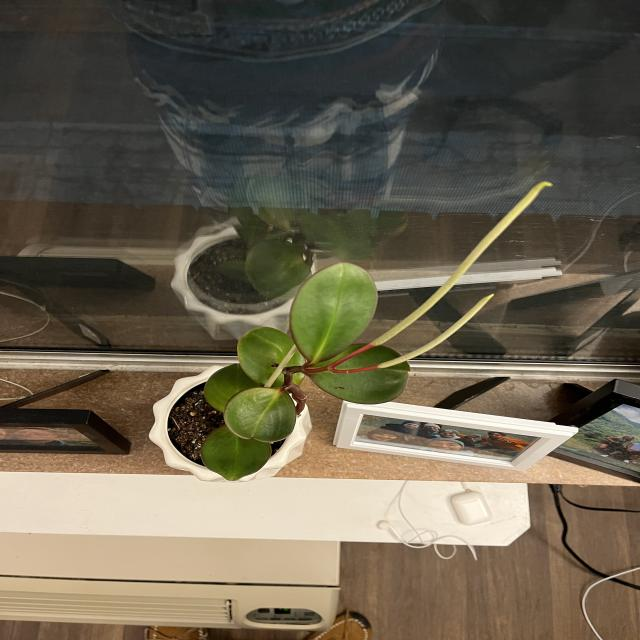Rubber_plant: (126, 162, 565, 486)
